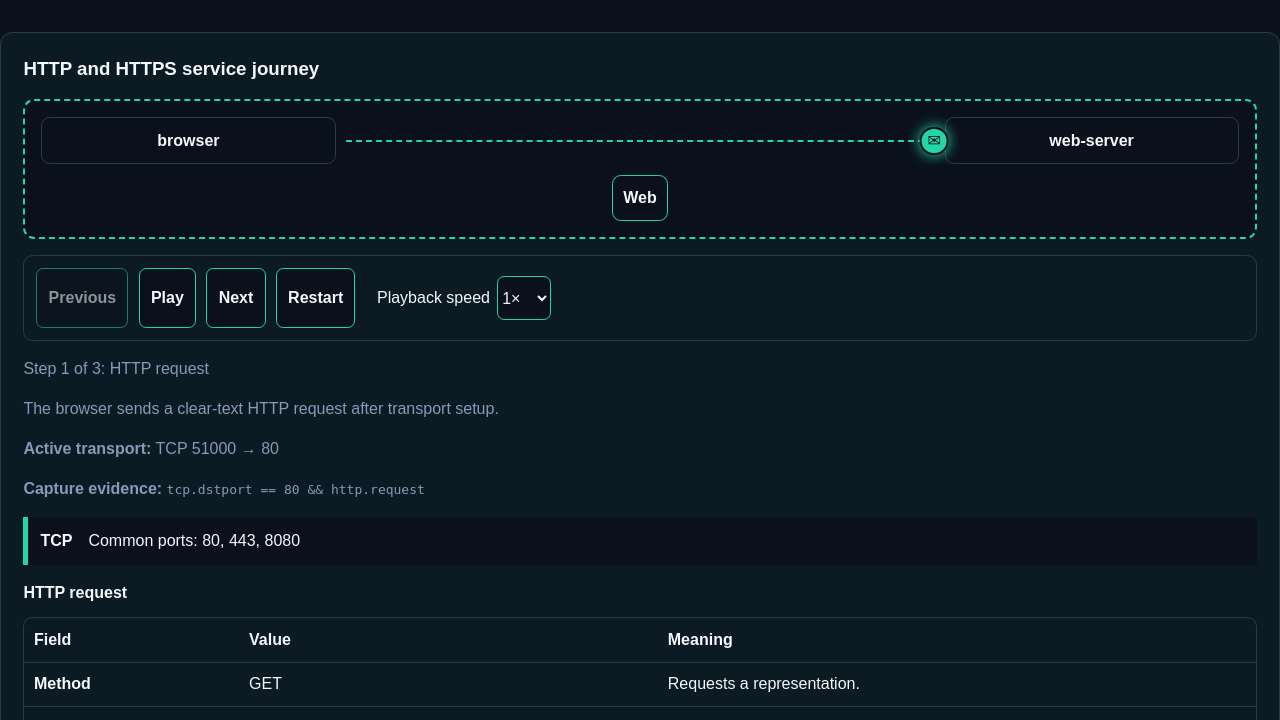
Test: ServiceJourneyPlayer › records progress only when the rendered journey reaches its terminal step
Click the button "Next".
click(236, 298)  # box left=206, top=268, right=266, bottom=328
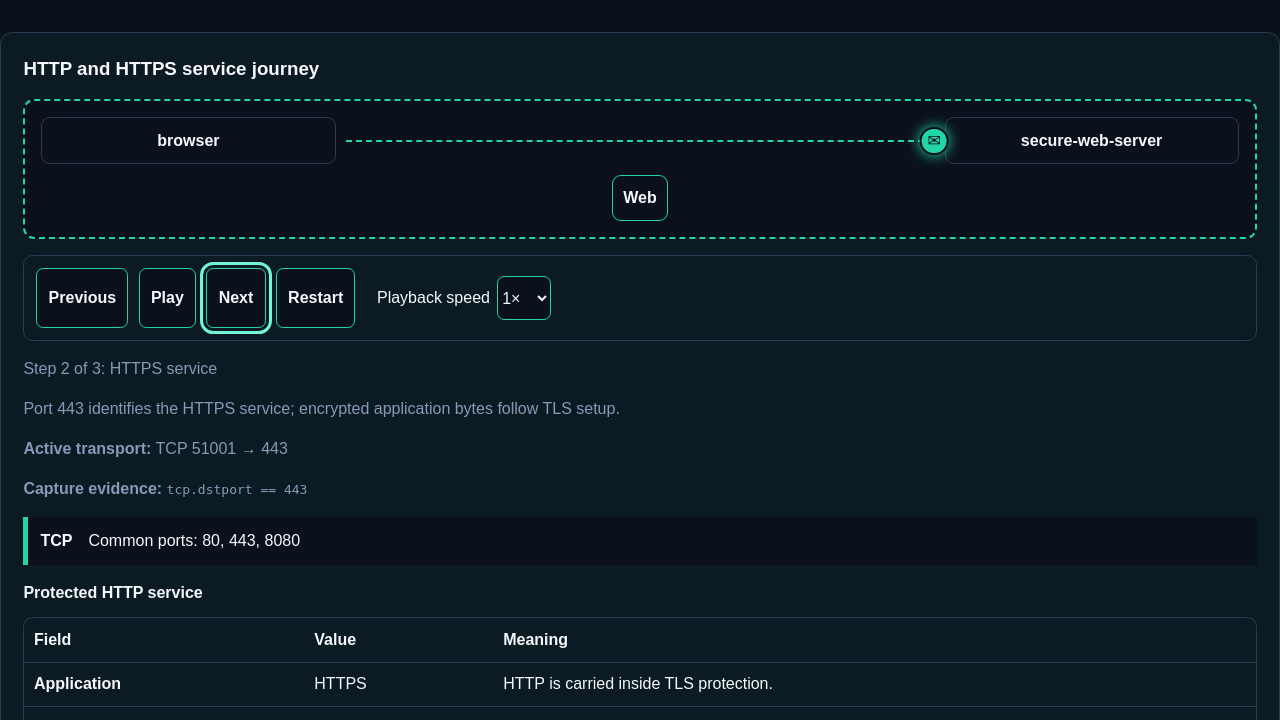
Click the button "Next".
click(236, 298)  # box left=206, top=268, right=266, bottom=328
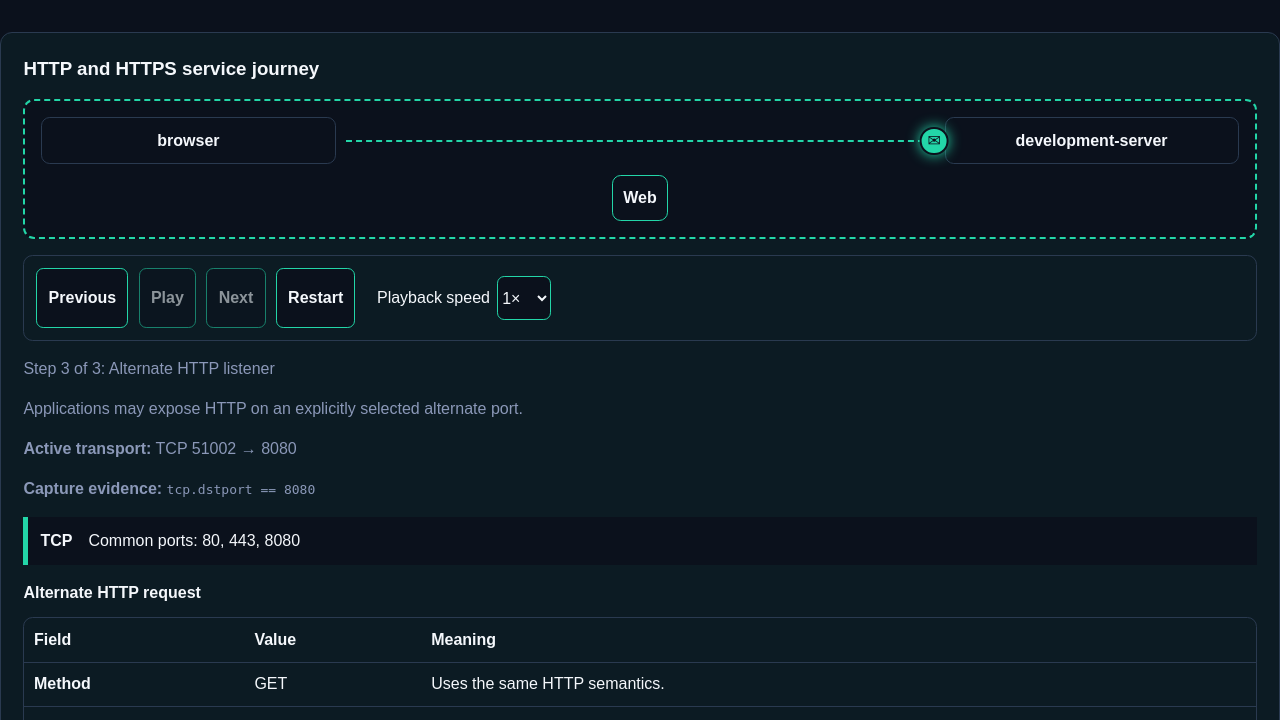
Expected: the button "Next" is disabled, left=206, top=268, right=266, bottom=328
